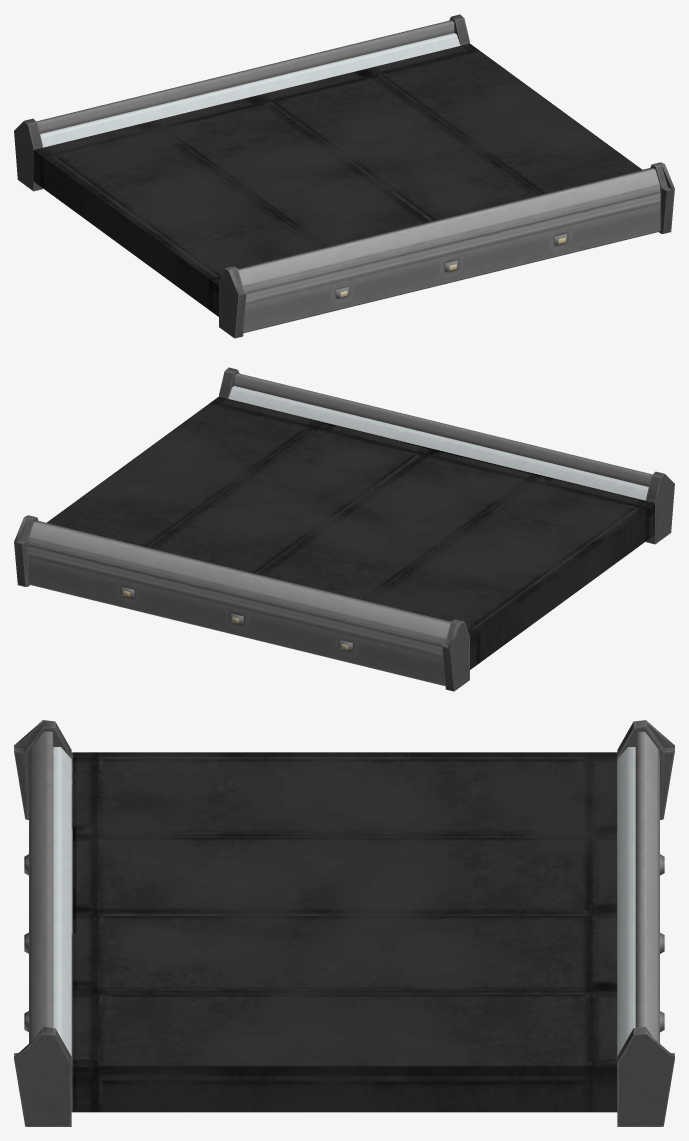
File: belt-mk1.glb
3 renders of one model, top to bottom at view 1: azimuth 30°, elevation 25°; view 2: azimuth 150°, elevation 25°; view 3: azimuth 270°, elevation 25°, orthographic. The views are drawn at different scales.
Parts seen in each view (by area): view 1: SM_ConveyorBelt_Mk1; view 2: SM_ConveyorBelt_Mk1; view 3: SM_ConveyorBelt_Mk1.
Part boxes in pixels (x1=…): SM_ConveyorBelt_Mk1: x1=14, y1=14, x2=674, y2=338; SM_ConveyorBelt_Mk1: x1=14, y1=367, x2=674, y2=691; SM_ConveyorBelt_Mk1: x1=14, y1=720, x2=674, y2=1126.
Size of the model in its own units: 2 by 0.2782 by 1.78.
1 material, 1 textured.
